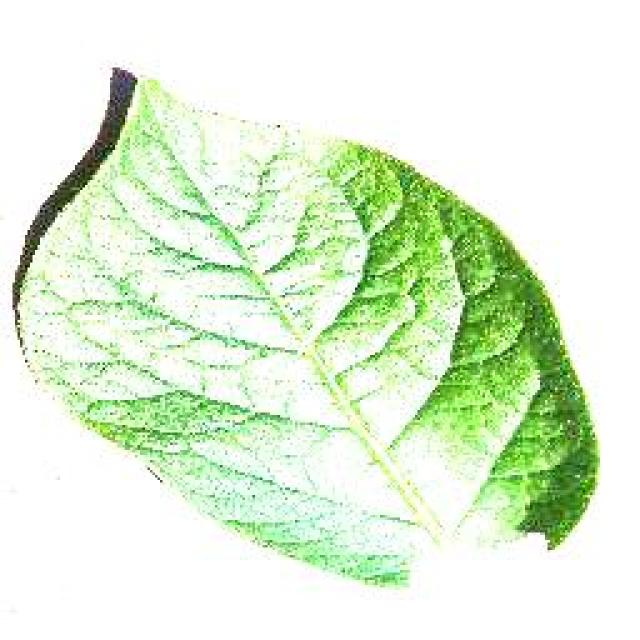Potato___healthy: (12, 70, 602, 590)
